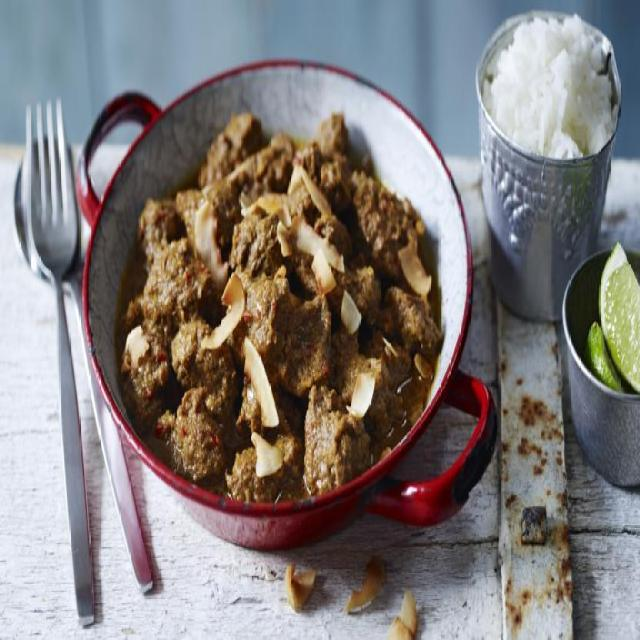Rendang: (114, 67, 448, 526)
